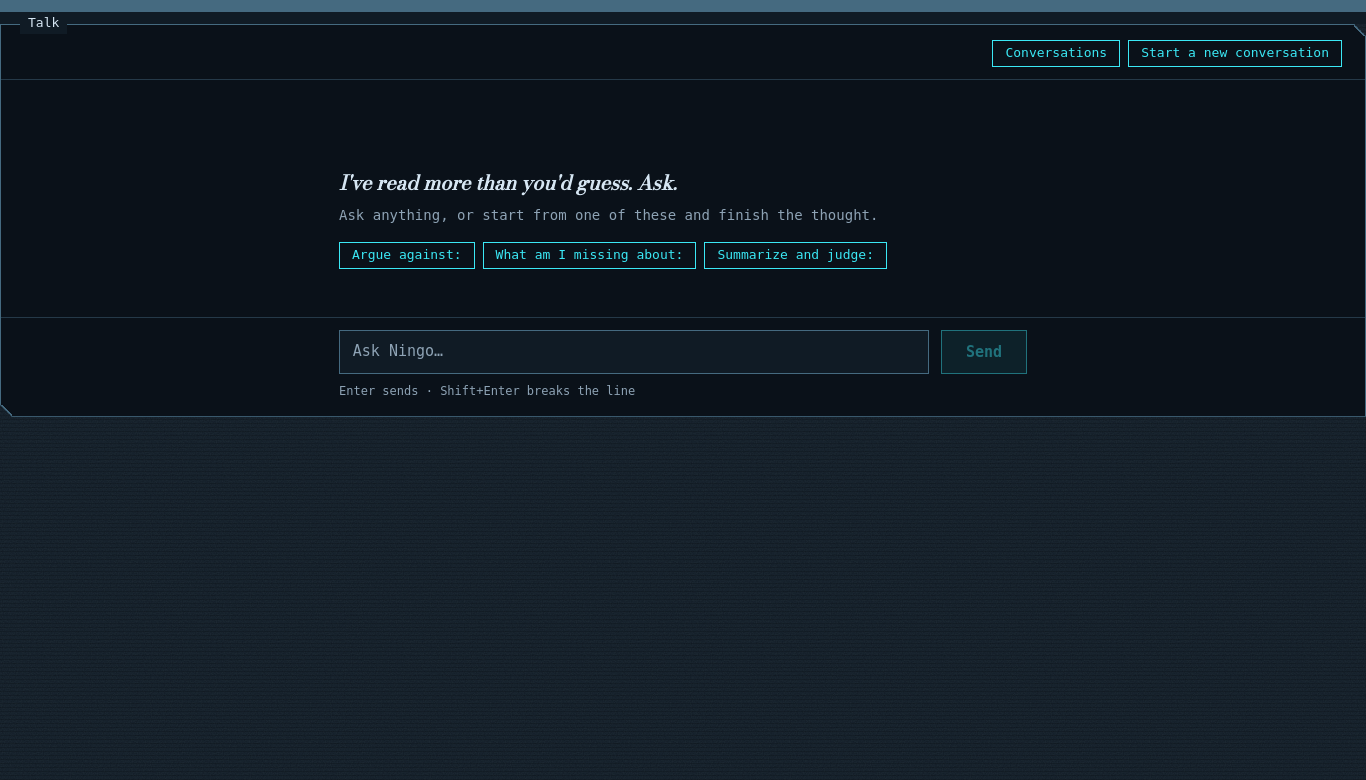
the conversation › sends on Enter, breaks the line on Shift+Enter, and keeps one id for the whole conversation
Type "first" into the text box named "Your message" at coordinates (634, 352), box x1=339 y1=330 x2=929 y2=374
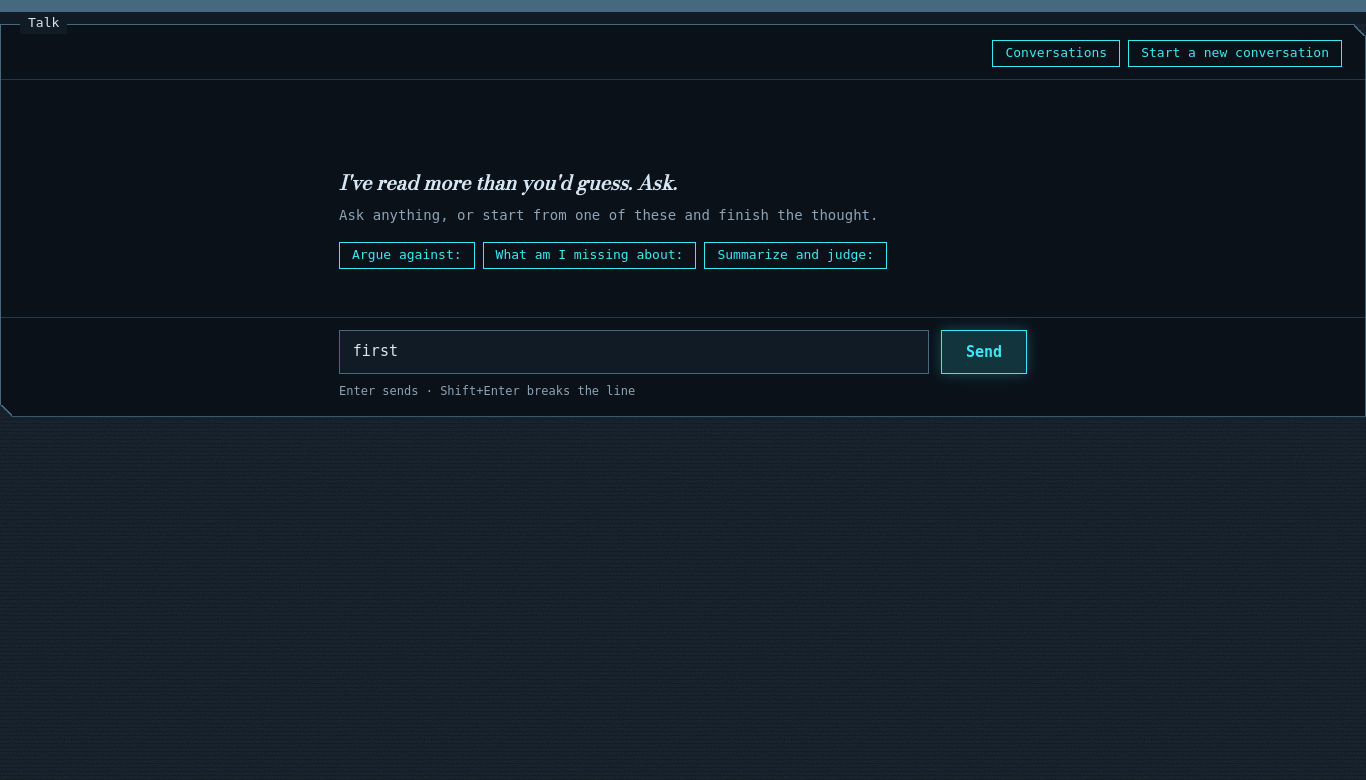
Press Enter in the text box named "Your message", box x1=339 y1=330 x2=929 y2=374
Press Enter in the text box named "Your message", box x1=339 y1=330 x2=929 y2=374
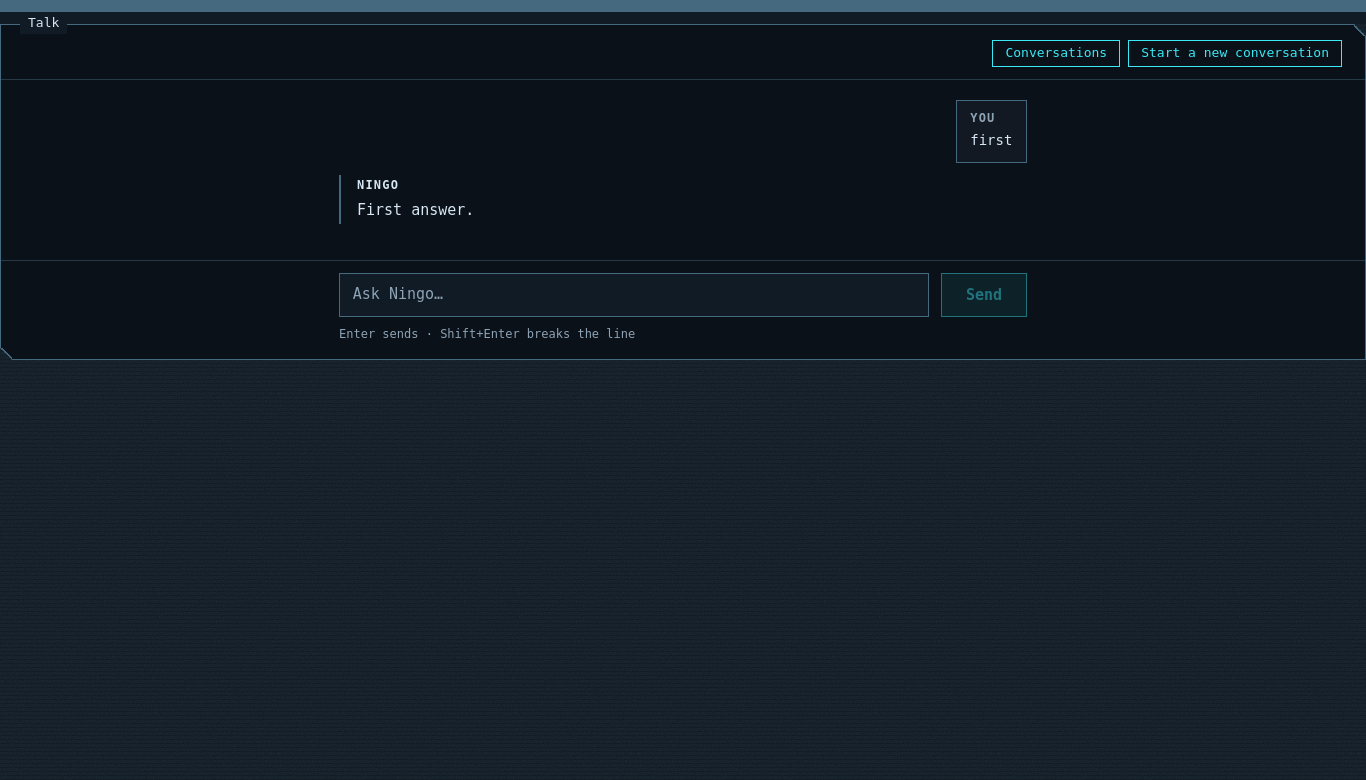
Now the text "First answer." is shown, box x1=357 y1=201 x2=474 y2=219
Now the text "I've read more than you'd guess. Ask." is gone
Type "second" into the text box named "Your message" at coordinates (634, 295), box x1=339 y1=273 x2=929 y2=317
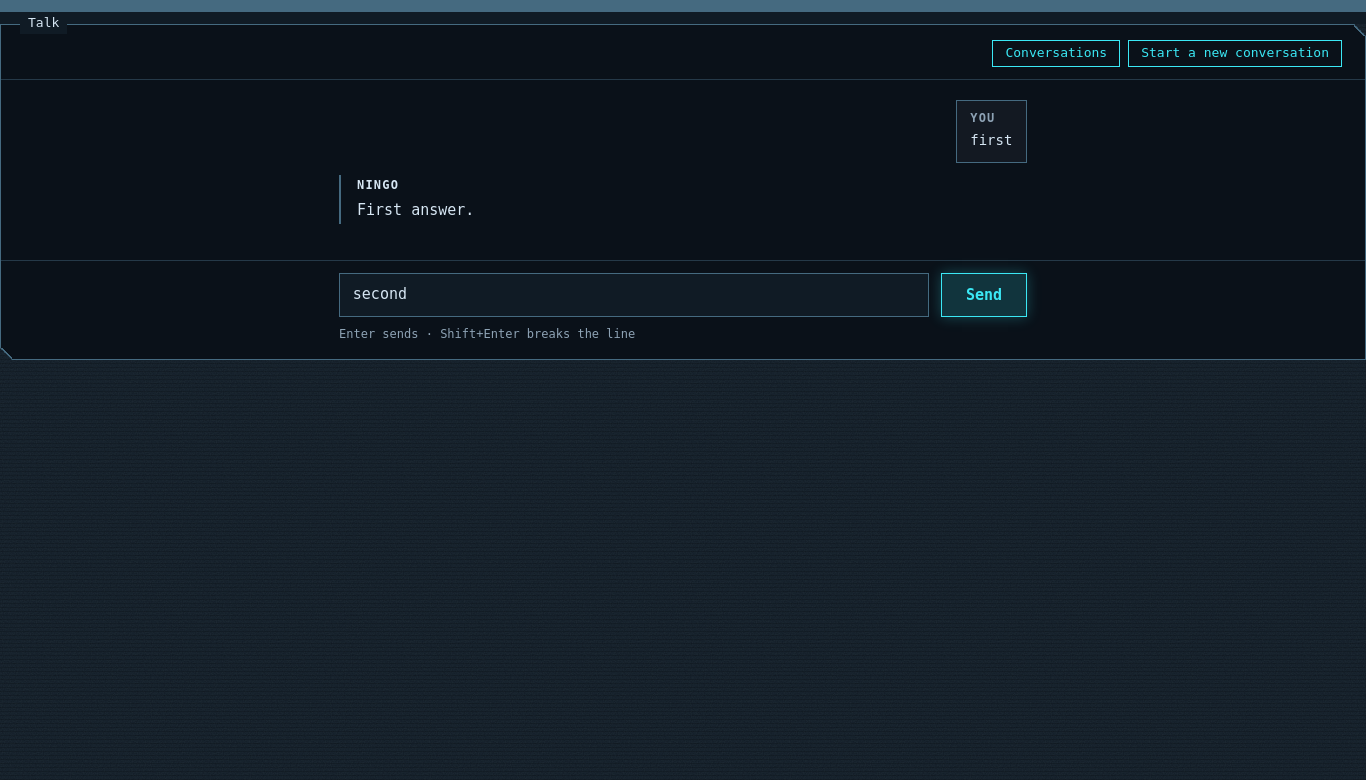
Click the button "Send" at coordinates (984, 295), box x1=941 y1=273 x2=1027 y2=317
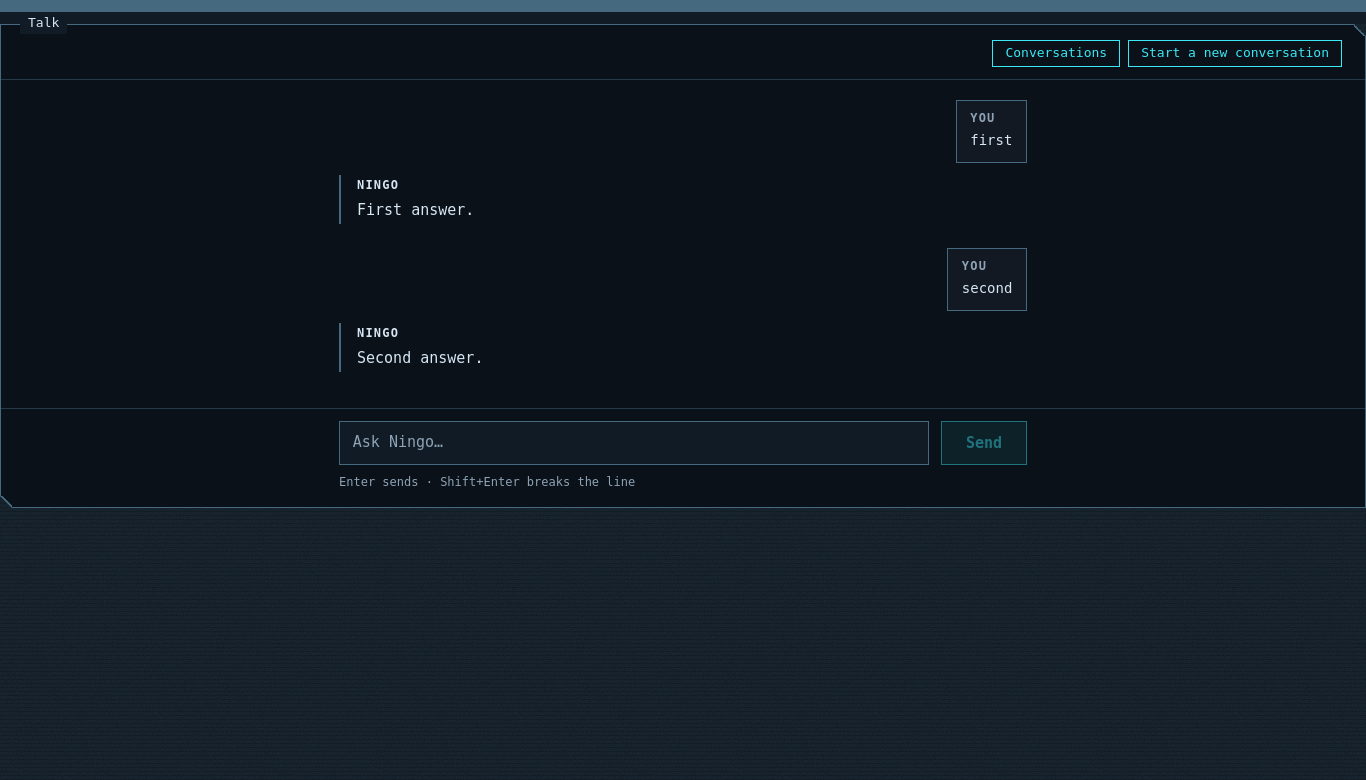
Now the text "Second answer." is shown, box x1=357 y1=349 x2=483 y2=367
